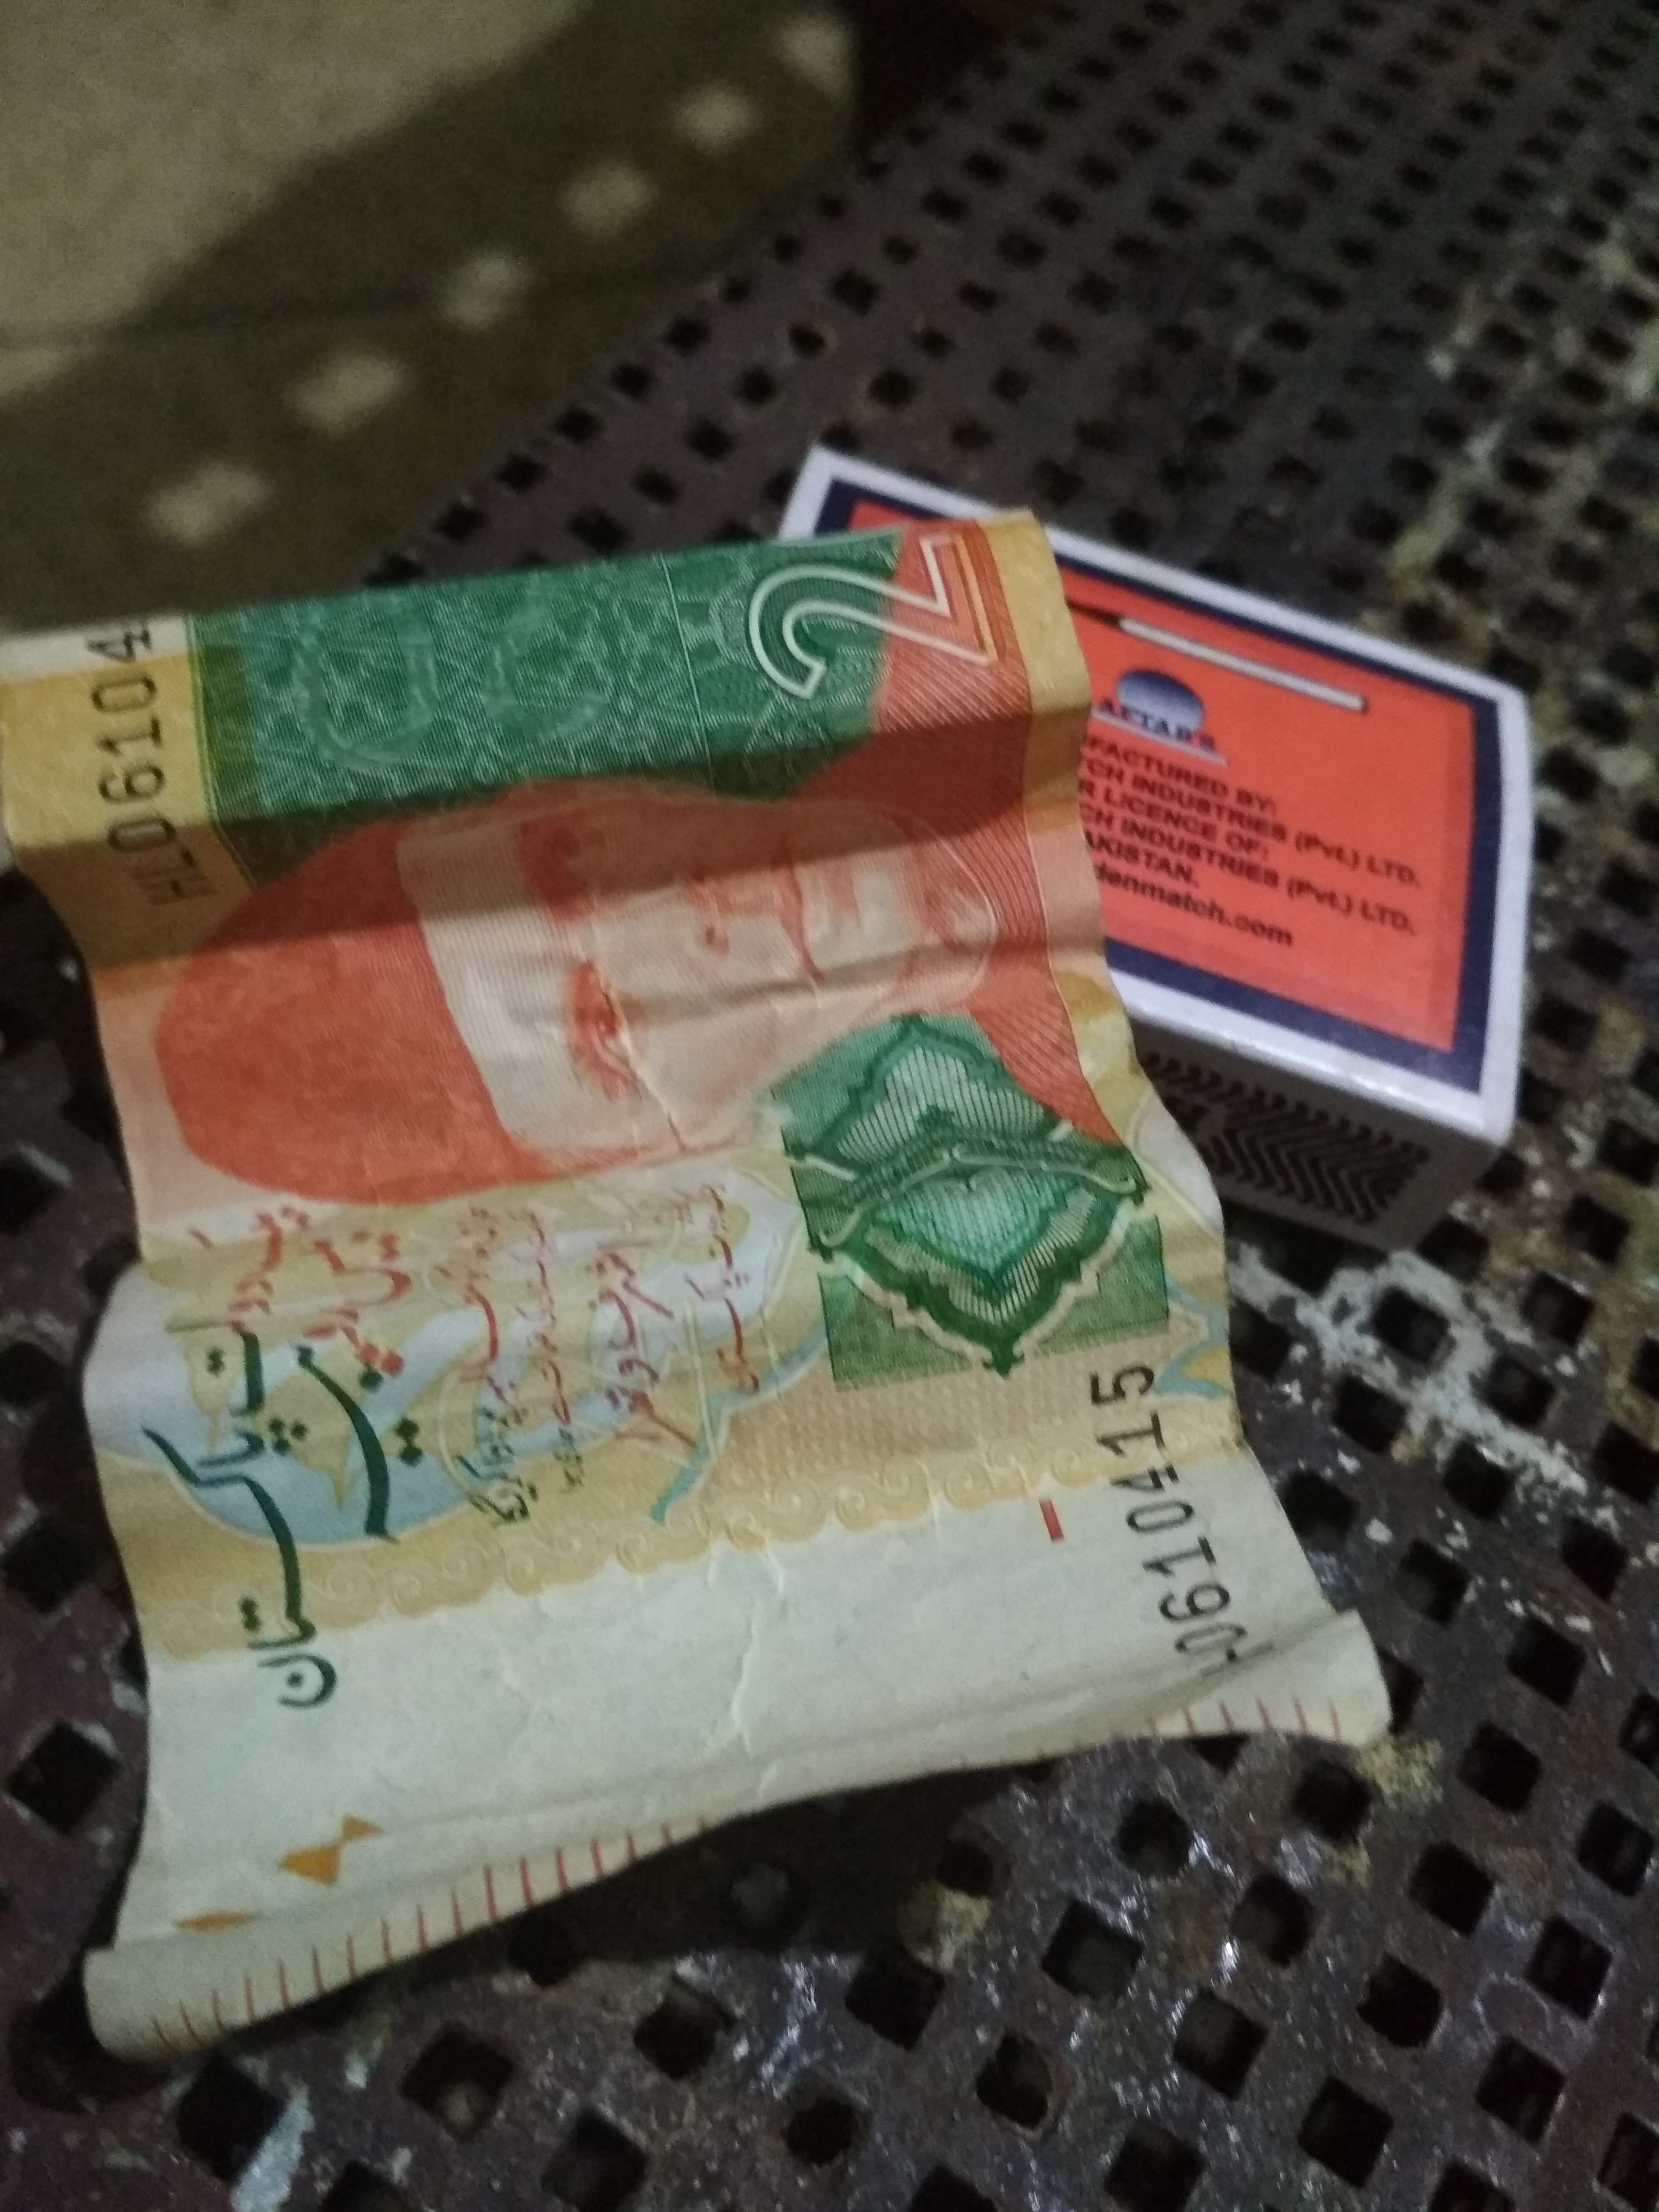20 rupee: (35, 465, 1310, 2052)
